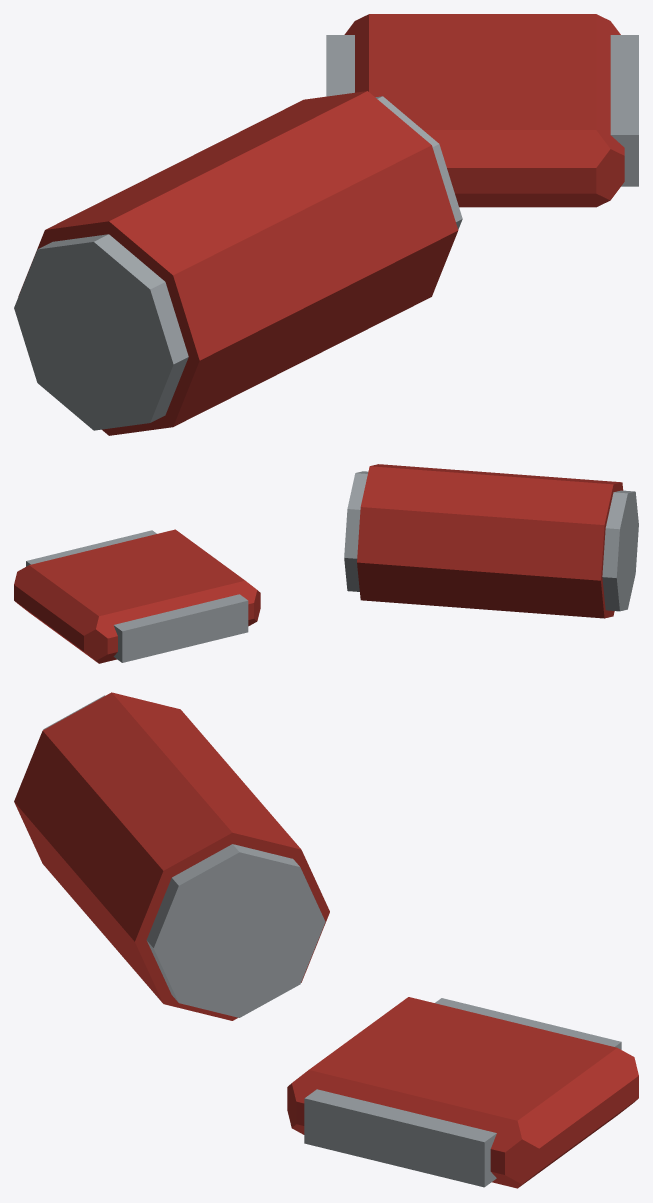
File: debris_canette.glb
3 views of the same model, one above another, from view 1: azimuth 30°, elevation 25°; view 2: azimuth 150°, elevation 25°; view 3: azimuth 270°, elevation 25° (orthographic). The views are drawn at different scales.
Visible parts, largest first — view 1: can, crushed, ends, crushed_ends; view 2: can, crushed, crushed_ends, ends; view 3: can, crushed, ends, crushed_ends.
Part boxes in pixels (<box>): can: <box>18,91,458,435</box>; crushed: <box>344,14,624,207</box>; ends: <box>14,96,462,430</box>; crushed_ends: <box>326,35,638,186</box>; can: <box>357,464,623,618</box>; crushed: <box>14,529,260,663</box>; crushed_ends: <box>26,530,248,662</box>; ends: <box>344,471,638,611</box>; can: <box>14,692,329,1020</box>; crushed: <box>287,997,638,1188</box>; ends: <box>43,695,325,1017</box>; crushed_ends: <box>304,998,621,1187</box>.
Bounding box in the file's own units: 0.1932 × 0.05 × 0.1503.
2 materials, 2 textured.
